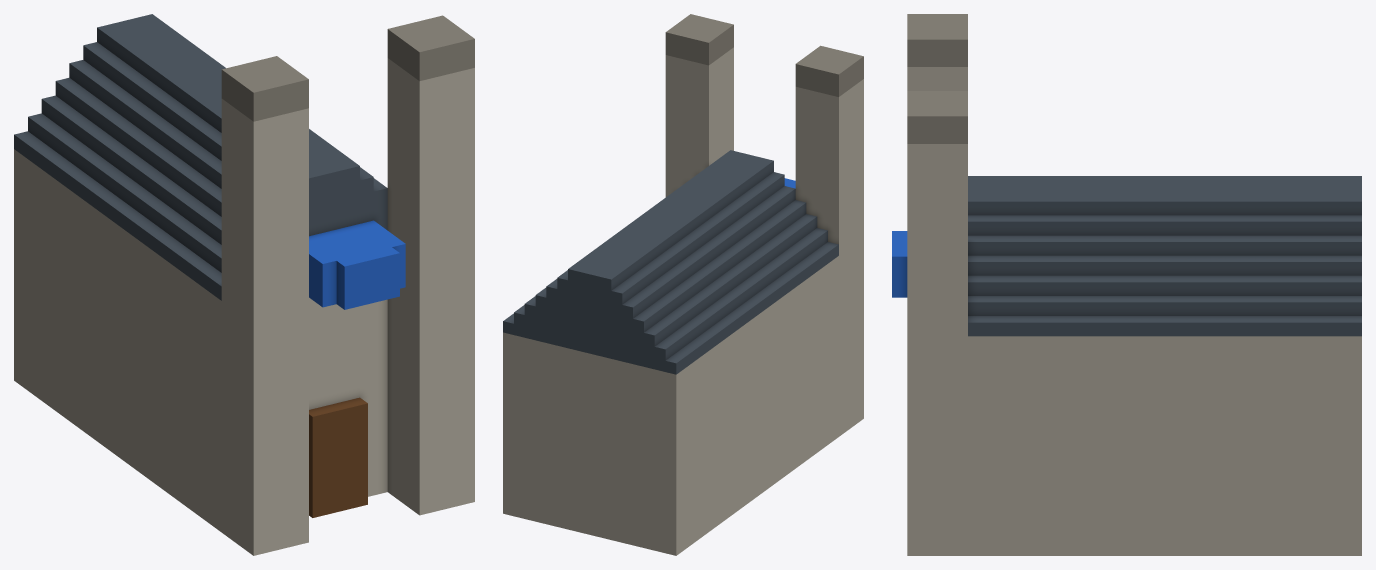
Rendered from w_cathedral.glb.
3 views of the same model, side by side, from view 1: azimuth 30°, elevation 25°; view 2: azimuth 150°, elevation 25°; view 3: azimuth 270°, elevation 25° (orthographic). The views are drawn at different scales.
Visible parts, largest first — view 1: w_cathedral_body; view 2: w_cathedral_body; view 3: w_cathedral_body.
Boxes of the visible parts, box(x1,y1,x2,y2) form: w_cathedral_body: box(14, 14, 474, 555); w_cathedral_body: box(503, 14, 863, 555); w_cathedral_body: box(892, 14, 1361, 555).
Size of the model in its own units: 1 by 2 by 1.94.
1 material, 1 textured.
